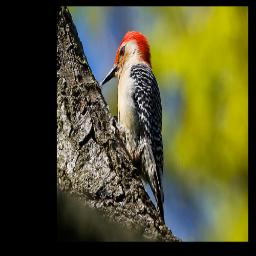Woodpecker: (98, 30, 164, 221)
